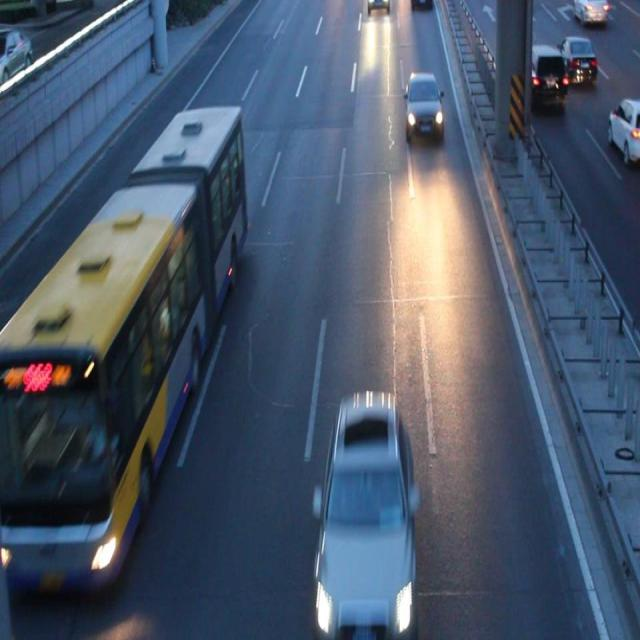car: (317, 389, 413, 616), (511, 46, 565, 103), (404, 72, 442, 138), (607, 97, 640, 163), (552, 38, 595, 82), (572, 1, 608, 24), (366, 1, 390, 17), (410, 1, 431, 12)
van: (1, 110, 245, 586)
